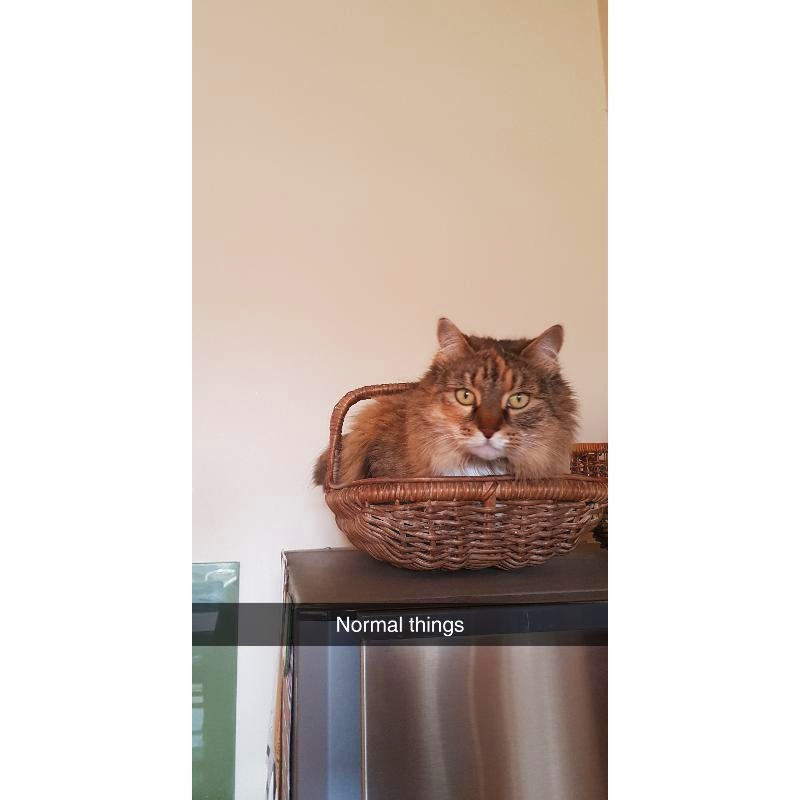yellow: (318, 318, 582, 482)
